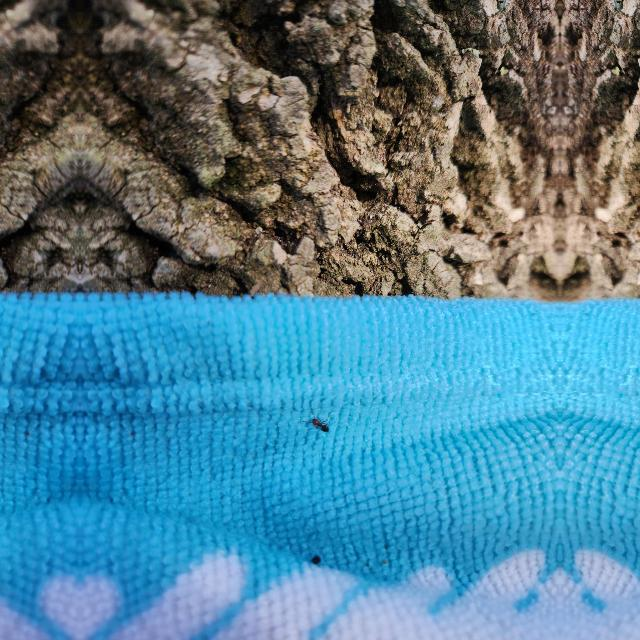Crematogaster: (308, 410, 337, 436)
